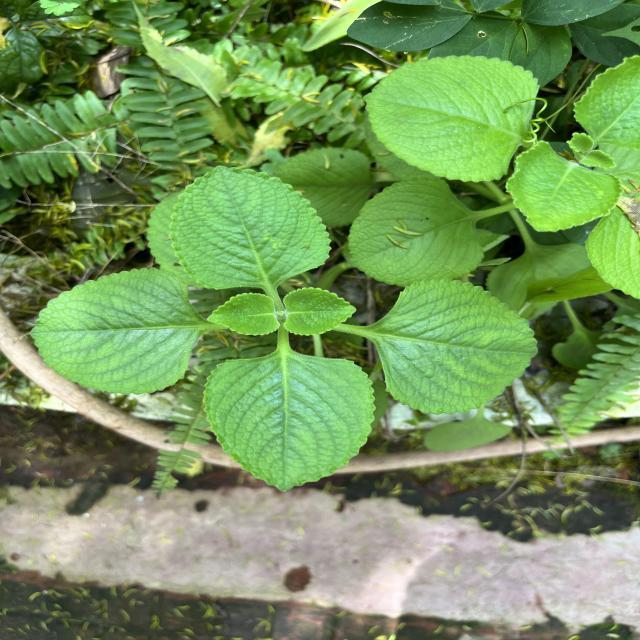Plectranthus barbatus: (202, 353, 376, 494), (362, 54, 540, 182), (29, 266, 204, 396), (373, 278, 539, 414), (168, 163, 334, 291), (348, 174, 486, 288), (504, 140, 624, 233), (282, 286, 358, 336), (206, 292, 281, 337)
